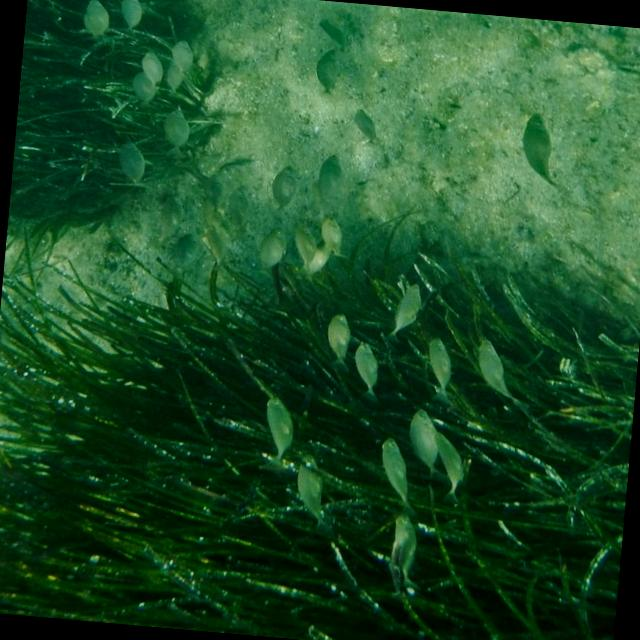Sokar Baligi: (503, 106, 582, 196), (372, 509, 439, 598), (254, 389, 300, 468), (154, 103, 204, 163), (106, 134, 156, 190), (76, 0, 118, 52)
